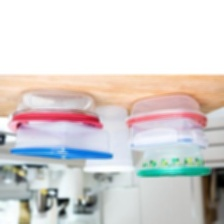plastic_box: (2, 87, 107, 140), (7, 115, 117, 165), (77, 100, 139, 178), (122, 90, 212, 135), (123, 112, 212, 156), (132, 141, 214, 182)
